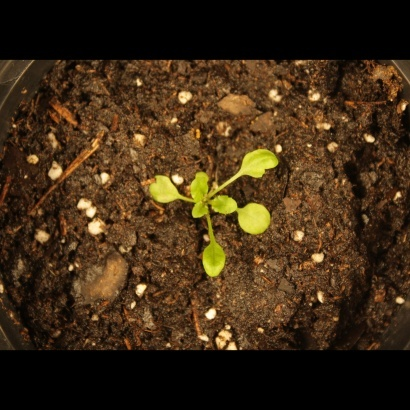leaf: (235, 146, 286, 179), (196, 239, 233, 283), (145, 170, 184, 209), (236, 200, 272, 239), (187, 171, 216, 202), (207, 194, 242, 219), (189, 201, 212, 224)
